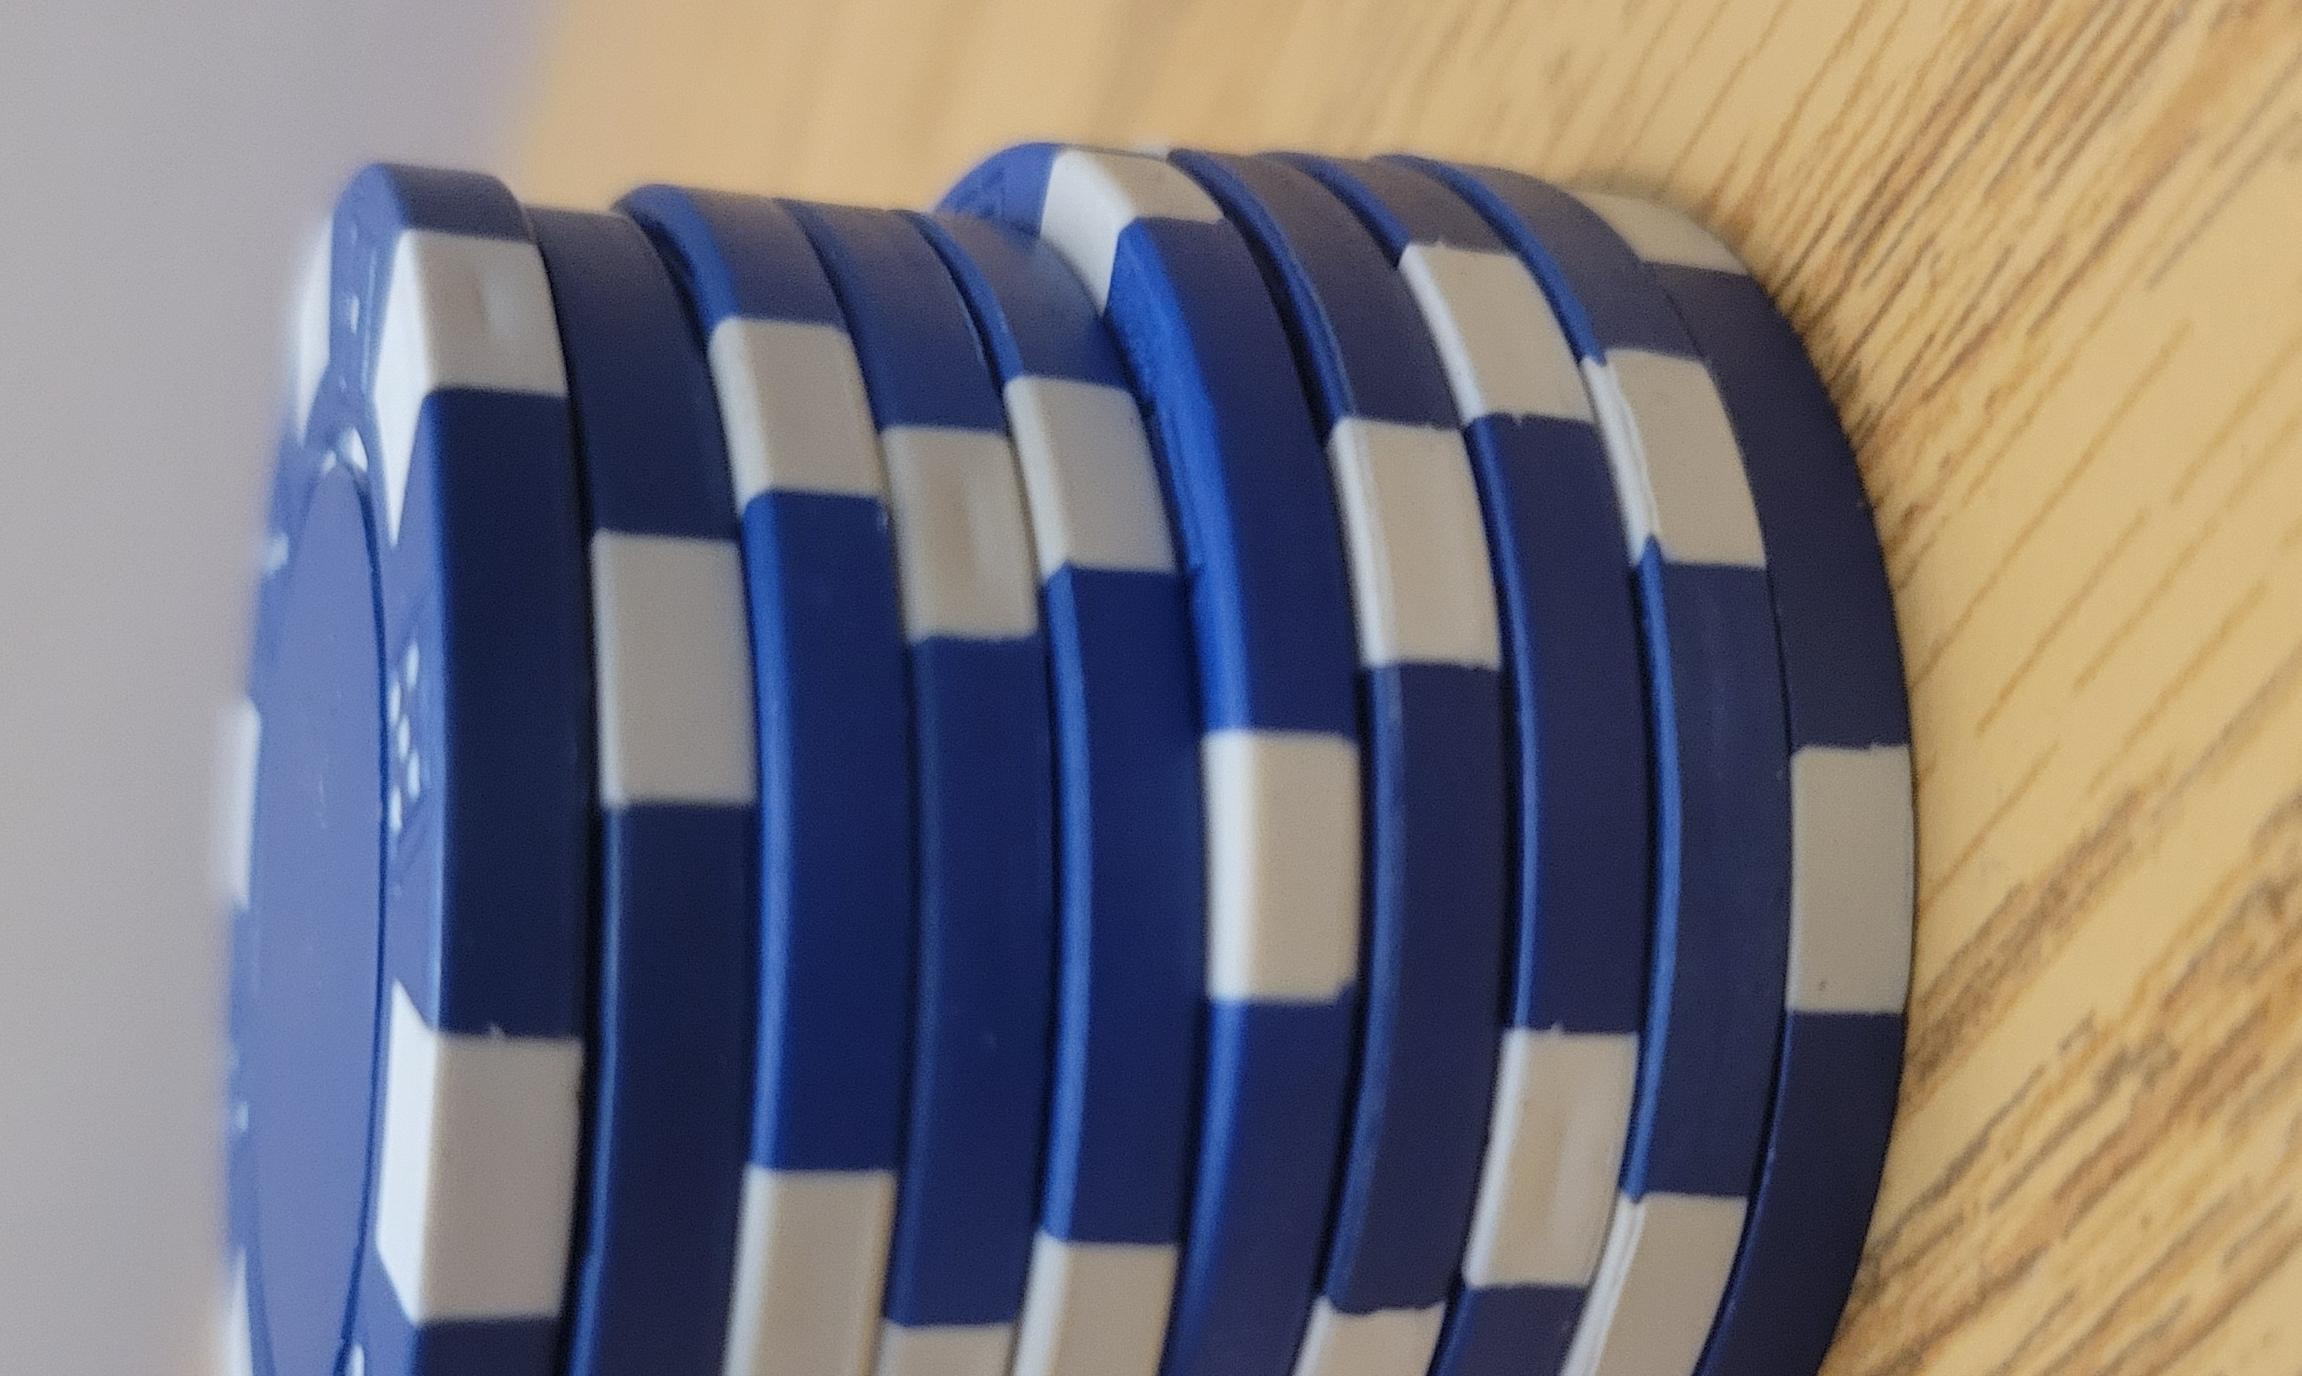Chip: (2, 218, 1537, 1376)
